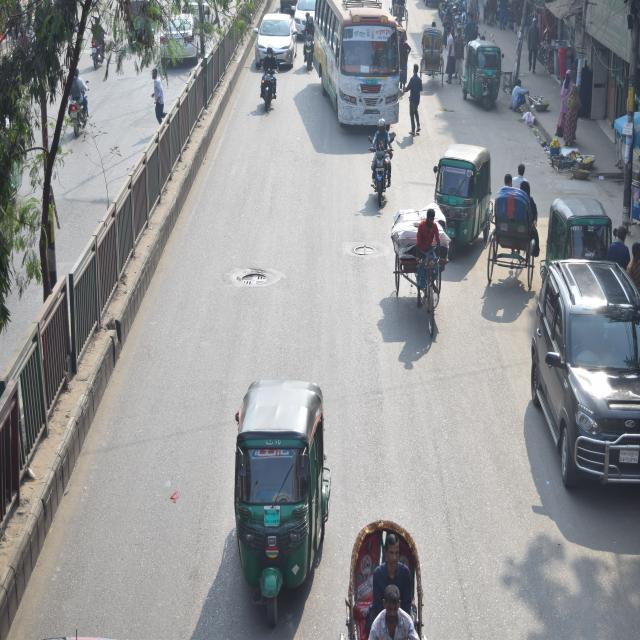bus: (314, 0, 400, 120)
car: (523, 260, 640, 483), (252, 12, 296, 66), (295, 0, 312, 35)
motorbike: (362, 141, 398, 212), (252, 65, 280, 124), (62, 87, 88, 138), (86, 31, 105, 75), (299, 34, 315, 80)
